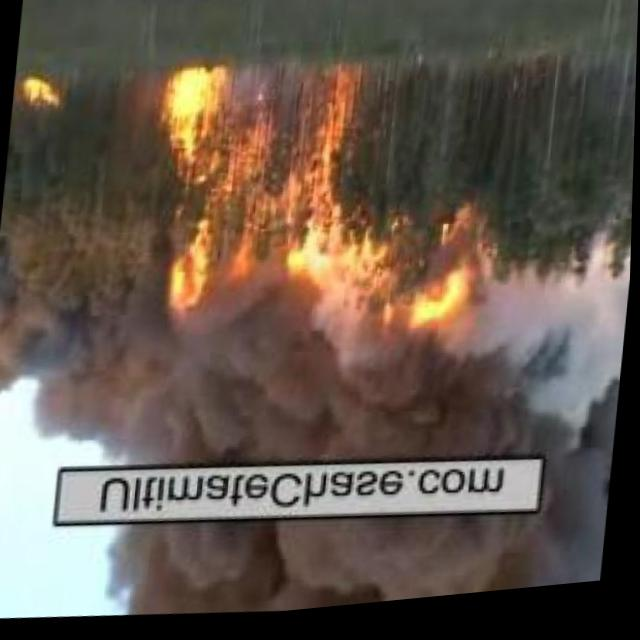Fire: (139, 45, 374, 338), (401, 221, 492, 356), (12, 63, 65, 114)
